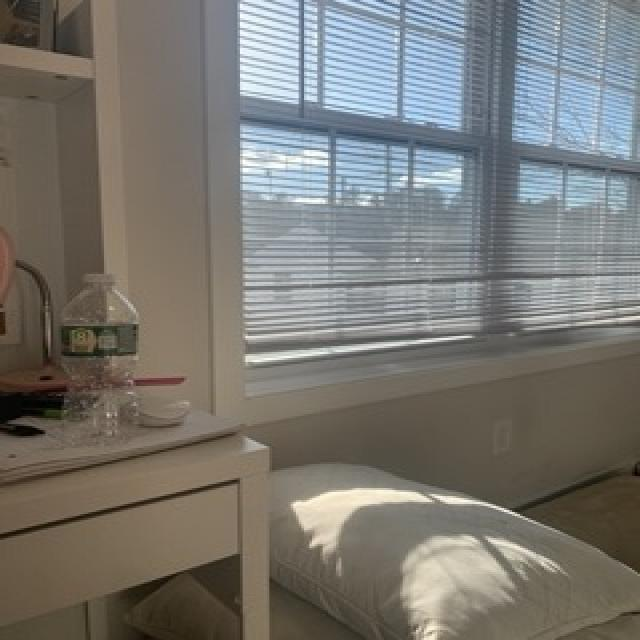water_bottle: (54, 269, 146, 449)
